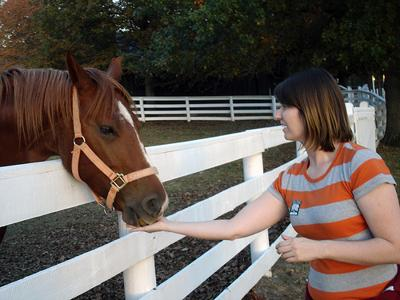person: (126, 65, 399, 300)
